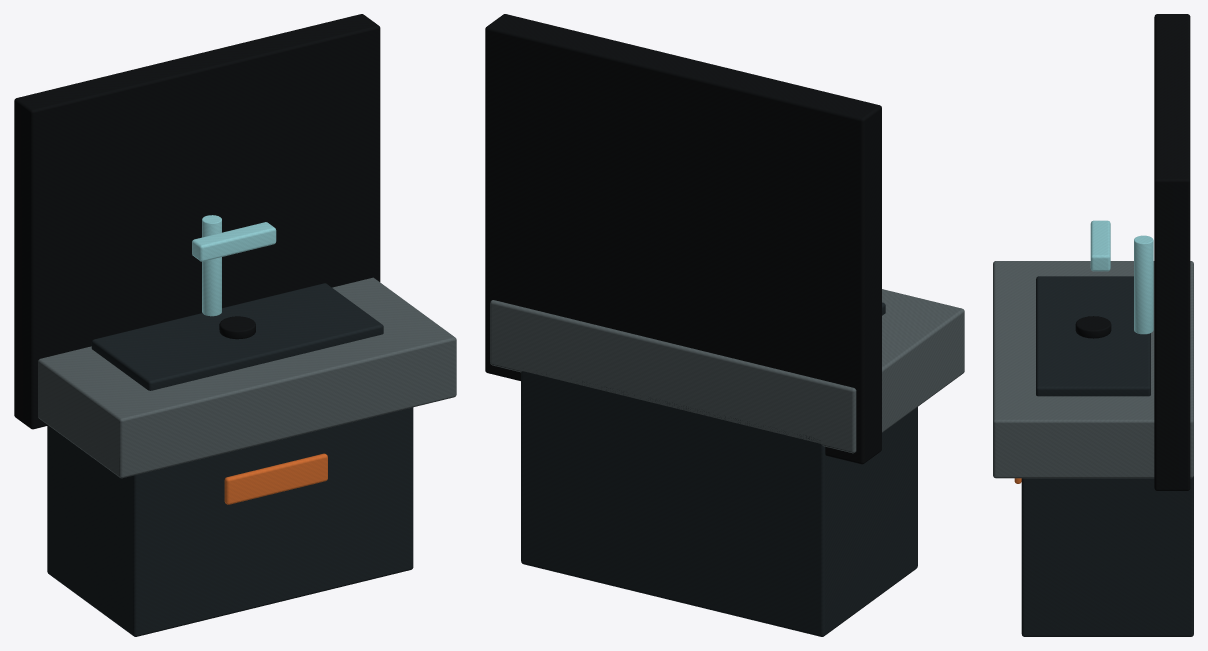
Rendered from DeconSink.glb.
3 views of the same model, side by side, from view 1: azimuth 30°, elevation 25°; view 2: azimuth 150°, elevation 25°; view 3: azimuth 270°, elevation 25° (orthographic). The views are drawn at different scales.
Parts seen in each view (by area): view 1: DeconSink_Mesh; view 2: DeconSink_Mesh; view 3: DeconSink_Mesh.
Boxes of the visible parts, x1=… form: DeconSink_Mesh: x1=14, y1=14, x2=456, y2=636; DeconSink_Mesh: x1=485, y1=14, x2=964, y2=636; DeconSink_Mesh: x1=993, y1=14, x2=1193, y2=636.
Size of the model in its own units: 1.1 by 1.46 by 0.56.
Materials: 5 (5 with a texture image).
